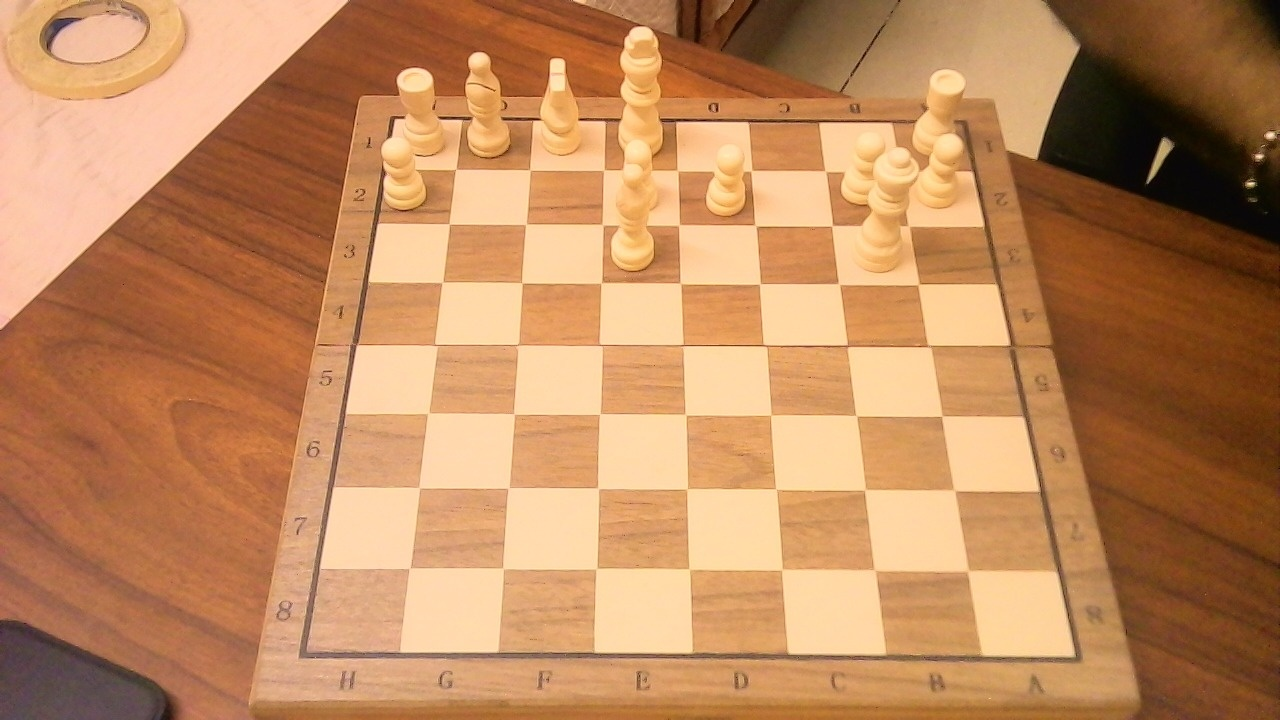B: (606, 150, 668, 274), (459, 41, 519, 161)
K: (609, 16, 673, 161)
N: (531, 47, 590, 160)
P: (834, 123, 896, 210), (919, 124, 973, 213), (377, 127, 433, 212), (698, 135, 753, 220), (612, 130, 664, 214)
Q: (846, 135, 925, 278)
R: (907, 59, 972, 160), (392, 57, 451, 160)
